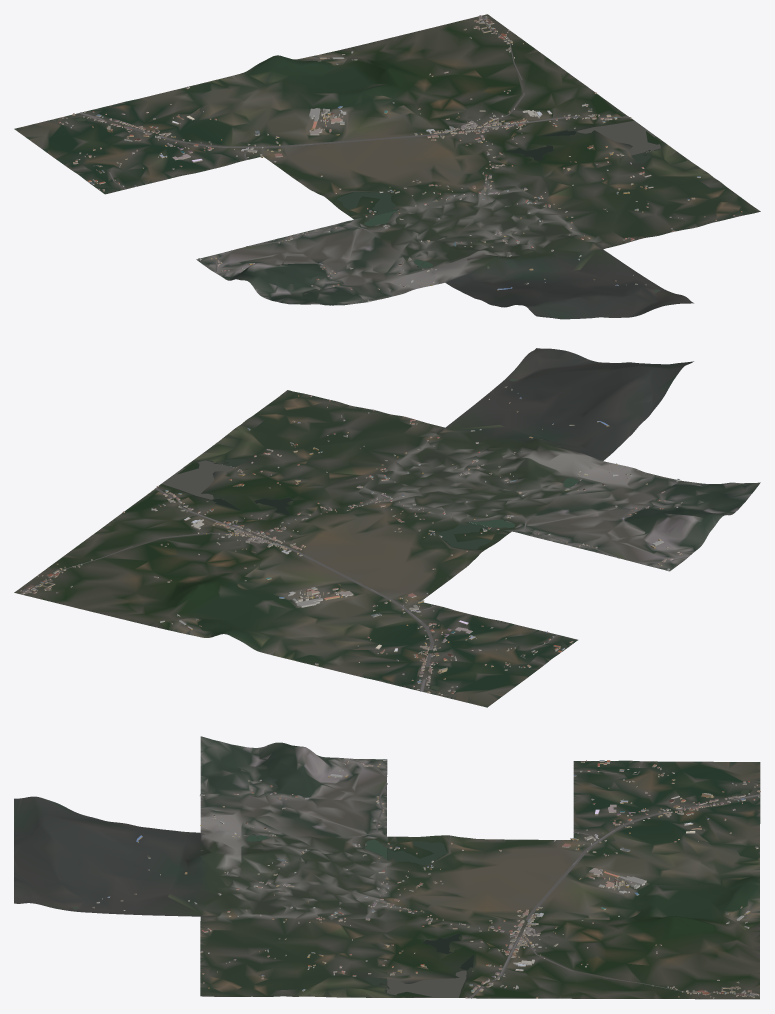
3 views of the same model, one above another, from view 1: azimuth 30°, elevation 25°; view 2: azimuth 150°, elevation 25°; view 3: azimuth 270°, elevation 25° (orthographic). The views are drawn at different scales.
Parts seen in each view (by area): view 1: ground, buildings, water, roads; view 2: ground, buildings, water, roads; view 3: ground, buildings, water, roads.
Part boxes in pixels (<box>): ground: <box>14,14,760,319</box>; buildings: <box>58,15,742,302</box>; water: <box>75,117,660,292</box>; roads: <box>71,15,628,272</box>; ground: <box>14,348,760,707</box>; buildings: <box>20,386,682,694</box>; water: <box>161,378,580,689</box>; roads: <box>20,488,687,691</box>; ground: <box>14,736,760,999</box>; buildings: <box>92,759,760,998</box>; water: <box>71,789,749,997</box>; roads: <box>349,758,760,998</box>.
Bounding box in the file's own units: 4214 × 377 × 5614.
